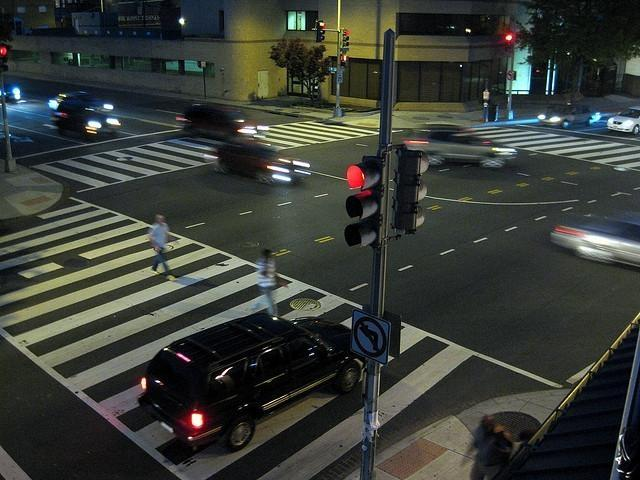car: (130, 310, 370, 452), (399, 121, 518, 169), (551, 204, 640, 266), (212, 142, 311, 184), (182, 100, 259, 140), (50, 107, 119, 144), (46, 90, 115, 113), (538, 104, 592, 128), (605, 105, 640, 134), (0, 78, 21, 105)
